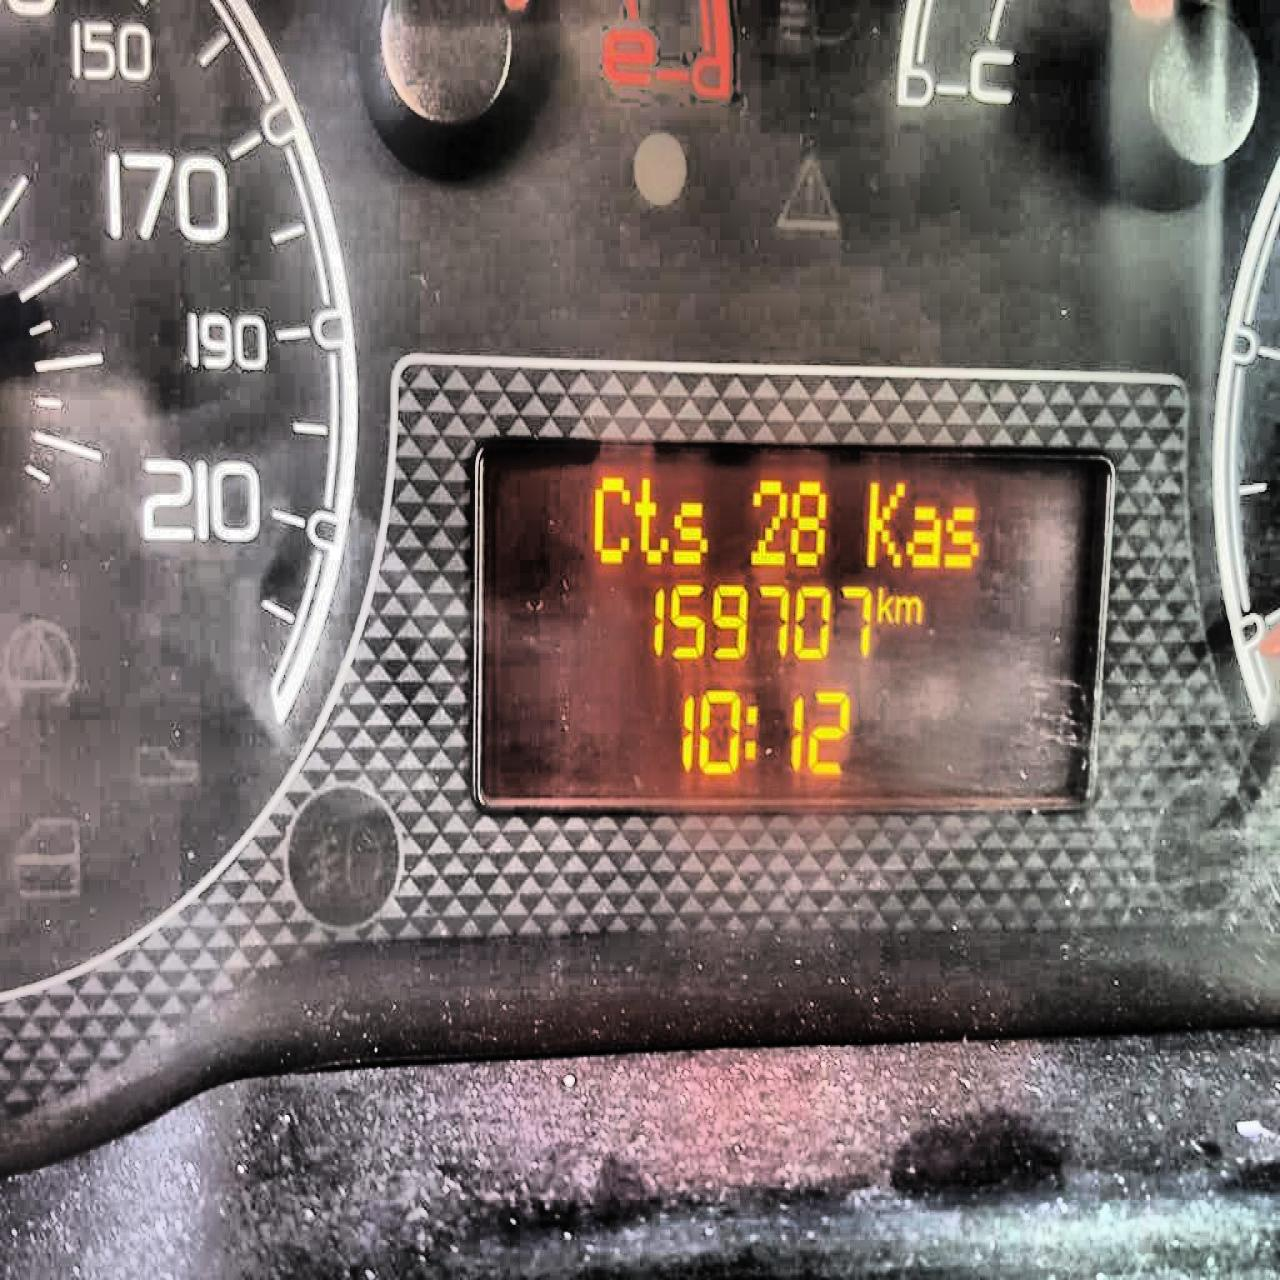0: (696, 688, 742, 775), (792, 584, 831, 660)
1: (679, 694, 694, 774), (789, 694, 803, 774), (651, 586, 665, 656)
2: (805, 690, 849, 775), (749, 478, 788, 565)
5: (669, 581, 704, 659)
7: (757, 584, 789, 656), (839, 585, 871, 656)
8: (789, 478, 826, 567)
9: (710, 584, 748, 659)
X: (864, 479, 904, 568), (591, 475, 629, 564), (633, 475, 667, 564), (670, 499, 708, 564), (904, 504, 940, 568), (942, 505, 979, 567), (893, 593, 921, 625), (742, 703, 757, 760), (874, 587, 894, 624)
odometer: (469, 431, 1116, 817)
